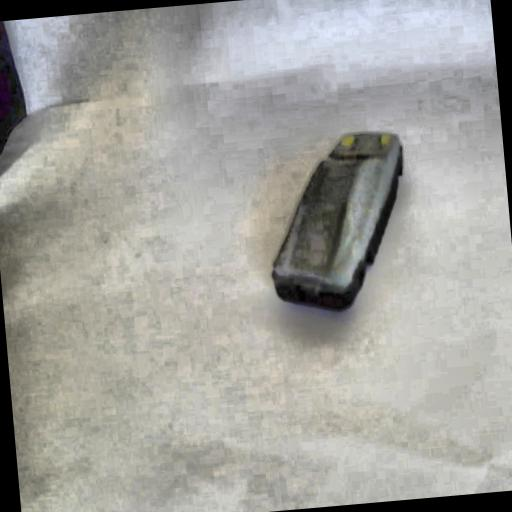normal_car: (254, 126, 417, 320)
